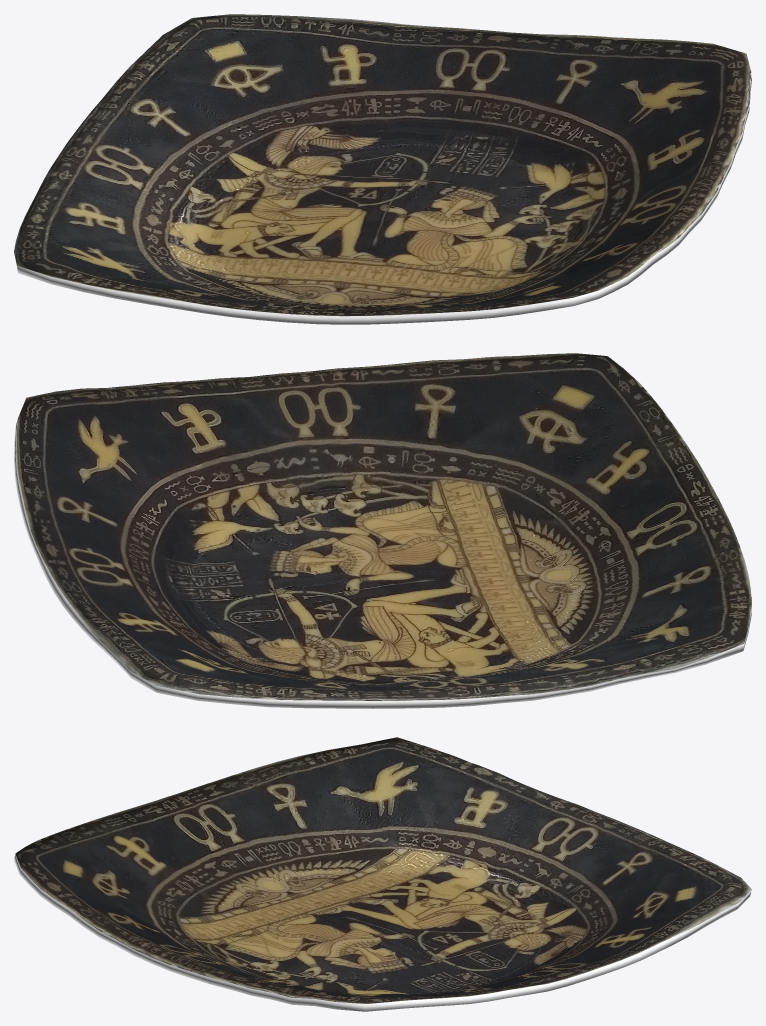
File: egyptian_plate_photo_scan.fbx
The picture shows the model from 3 angles, top to bottom: view 1: azimuth 30°, elevation 25°; view 2: azimuth 150°, elevation 25°; view 3: azimuth 270°, elevation 25°; orthographic projection. The views are drawn at different scales.
Parts seen in each view (by area): view 1: Object_2; view 2: Object_2; view 3: Object_2.
Boxes of the visible parts, box(x1,y1,x2,y2) form: Object_2: box(14, 14, 751, 324); Object_2: box(14, 353, 751, 708); Object_2: box(14, 737, 751, 1011).
Size of the model in its own units: 31.36 by 4.68 by 31.19.
1 material, 1 textured.
